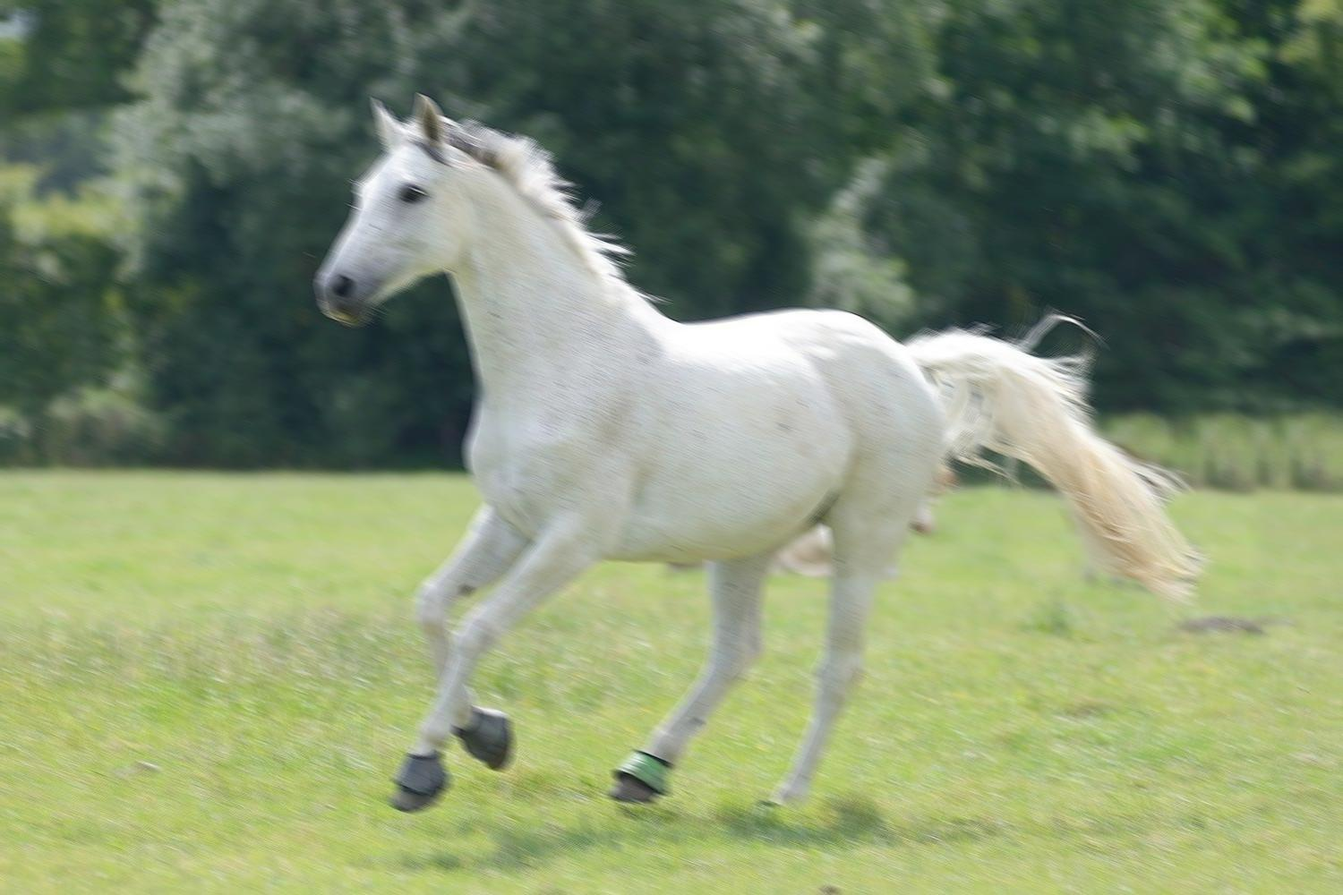horse: (296, 70, 1230, 832)
